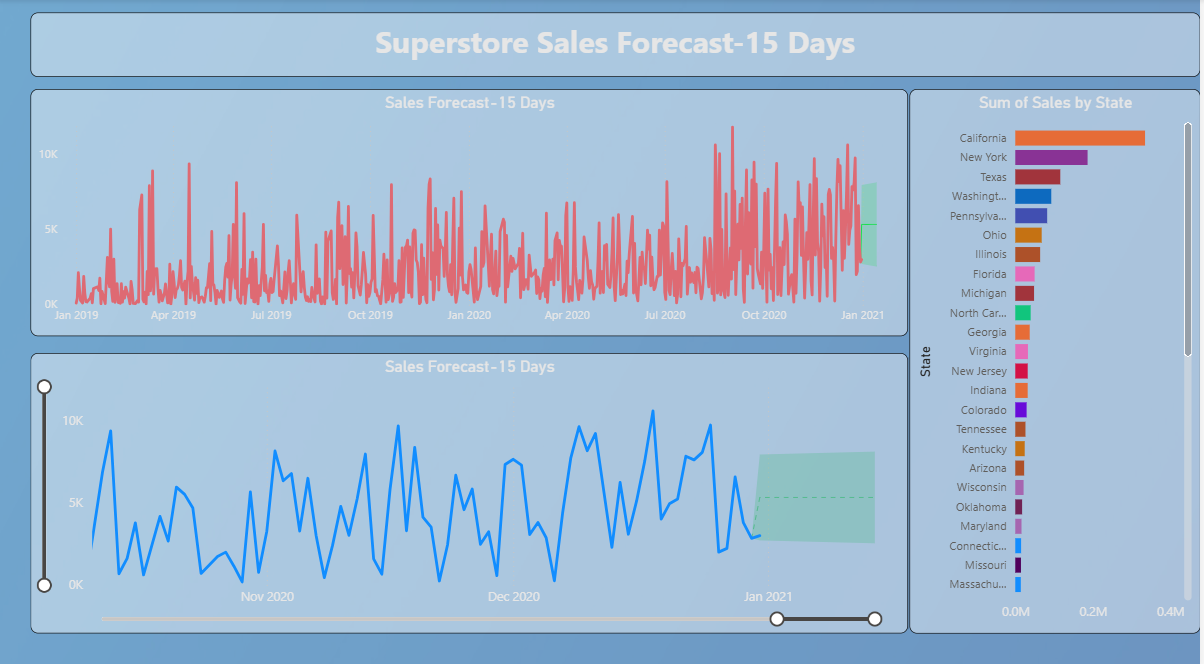

This screenshot's page, from the dashboard's own definition file:
{"tool":"powerbi","page":{"name":"Page 2","canvas":[1280,720],"ordinal":1},"visuals":[{"type":"lineChart","title":"Sales Forecast-15 Days","fields":{"Y":["Sum(SuperStore_Sales_Dataset.Sales)"],"Category":["SuperStore_Sales_Dataset.Order Date"]},"box":[33.6,95.9,934.6,263.6],"z":0},{"type":"lineChart","title":"Sales Forecast-15 Days","fields":{"Y":["Sum(SuperStore_Sales_Dataset.Sales)"],"Category":["SuperStore_Sales_Dataset.Order Date"]},"box":[33.6,377.1,934.6,298.8],"z":1000},{"type":"textbox","box":[0,14.6,1280.1,68.3],"z":2000},{"type":"clusteredBarChart","fields":{"Category":["SuperStore_Sales_Dataset.State"],"Y":["Sum(SuperStore_Sales_Dataset.Sales)"]},"box":[969.8,95.9,309.9,580],"z":3000}]}

Visuals, with their boxes in screenshot pixels (x1, y1, x2, y2), scaled from the page's 1280x720 canvas onto the 1204x664 screenshot:
"Sales Forecast-15 Days" lineChart: l=32, t=88, r=911, b=332
"Sales Forecast-15 Days" lineChart: l=32, t=348, r=911, b=623
textbox: l=0, t=13, r=1203, b=76
clusteredBarChart - SuperStore_Sales_Dataset.State x Sum(SuperStore_Sales_Dataset.Sales): l=912, t=88, r=1203, b=623
